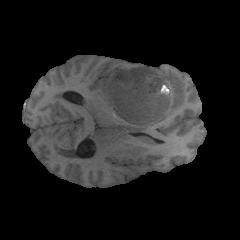glioma: (101, 65, 186, 129)
